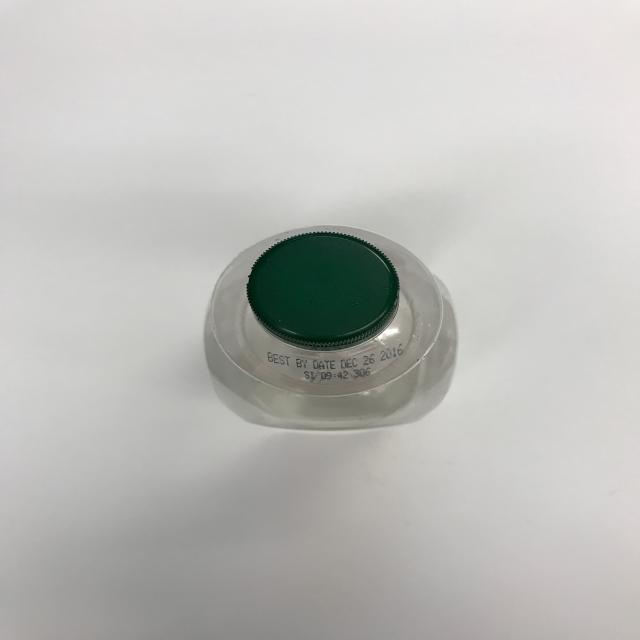plastic: (194, 221, 461, 438)
